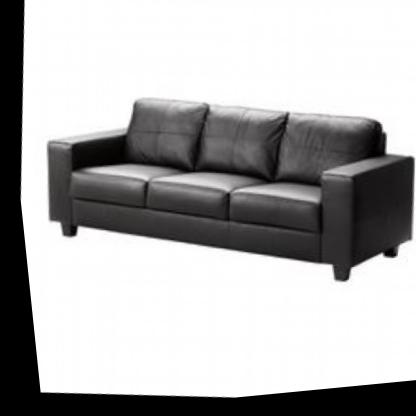Sofa: (18, 42, 416, 319)
